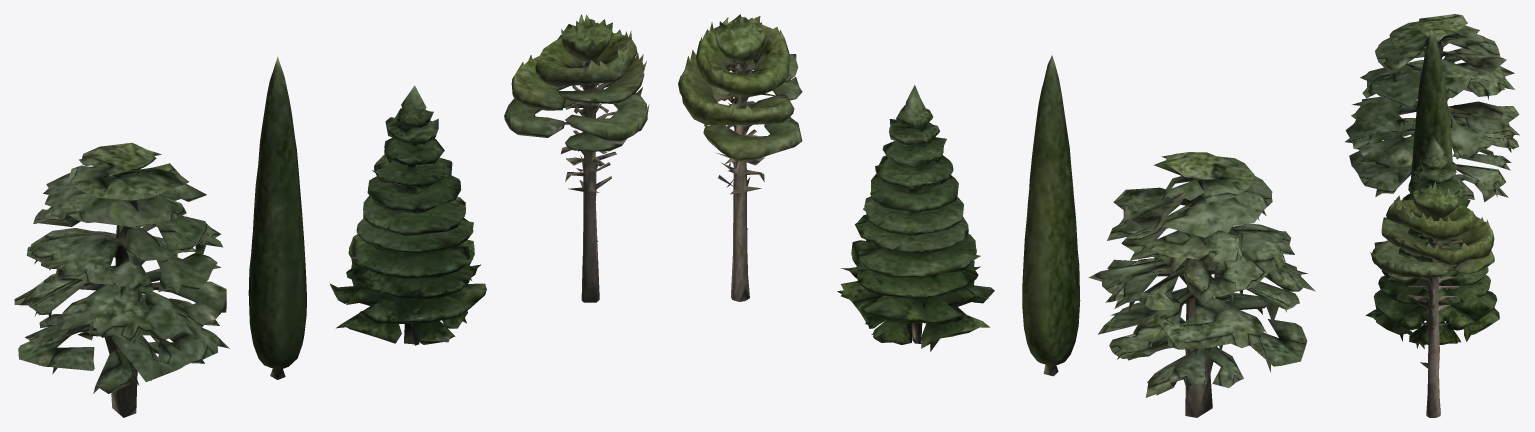
Rendered from trees_conifer.glb.
3 renders of one model, left to right at view 1: azimuth 30°, elevation 25°; view 2: azimuth 150°, elevation 25°; view 3: azimuth 270°, elevation 25°, orthographic. The views are drawn at different scales.
Visible parts, largest first — view 1: cedar, spruce, pine, cypress; view 2: cedar, spruce, pine, cypress; view 3: cedar, pine, spruce, cypress.
Part boxes in pixels (<box>): cedar: <box>14,142,229,417</box>; spruce: <box>330,85,486,345</box>; pine: <box>504,14,649,302</box>; cypress: <box>248,56,306,379</box>; cedar: <box>1088,152,1315,417</box>; spruce: <box>837,85,994,351</box>; pine: <box>678,14,802,301</box>; cypress: <box>1022,55,1080,376</box>; cedar: <box>1345,14,1519,201</box>; pine: <box>1370,181,1494,417</box>; spruce: <box>1365,135,1499,348</box>; cypress: <box>1410,29,1453,193</box>.
Bounding box in the file's own units: 1.09 × 0.5379 × 0.3283.
Materials: 1 (1 with a texture image).
